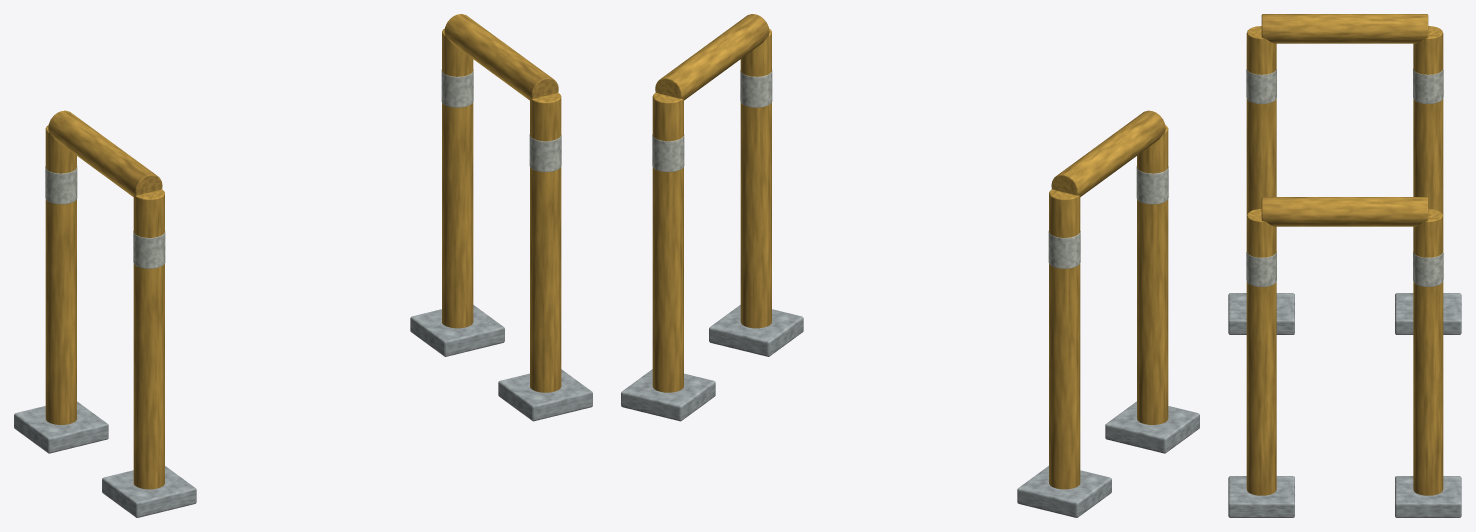
File: GR_ChicanePosts_03.glb
The picture shows the model from 3 angles, left to right: view 1: azimuth 30°, elevation 25°; view 2: azimuth 150°, elevation 25°; view 3: azimuth 270°, elevation 25°; orthographic projection. The views are drawn at different scales.
Parts seen in each view (by area): view 1: Static; view 2: Static; view 3: Static.
Boxes of the visible parts, x1,y1,x2,y2 form: Static: [14, 14, 592, 517]; Static: [621, 14, 1199, 517]; Static: [1228, 14, 1461, 517].
Bounding box in the file's own units: 1.5 × 1.02 × 0.7.
Materials: 1 (1 with a texture image).
